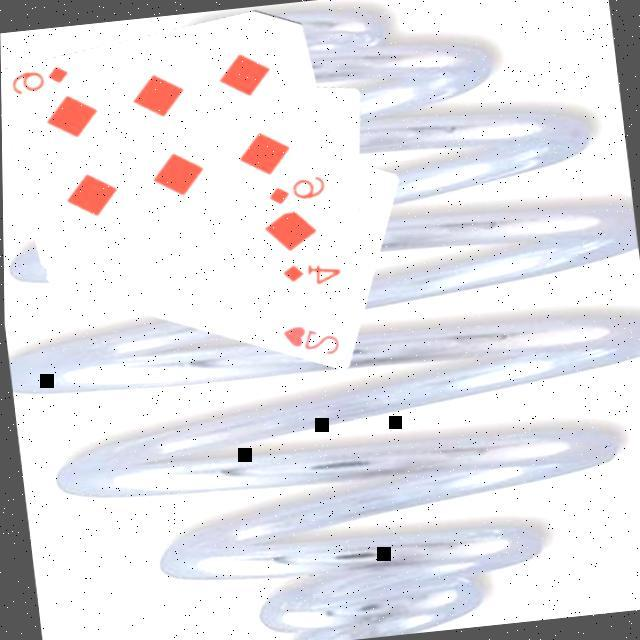2H: (275, 320, 341, 364)
4D: (276, 257, 342, 292)
6D: (261, 172, 328, 210), (6, 62, 72, 98)
